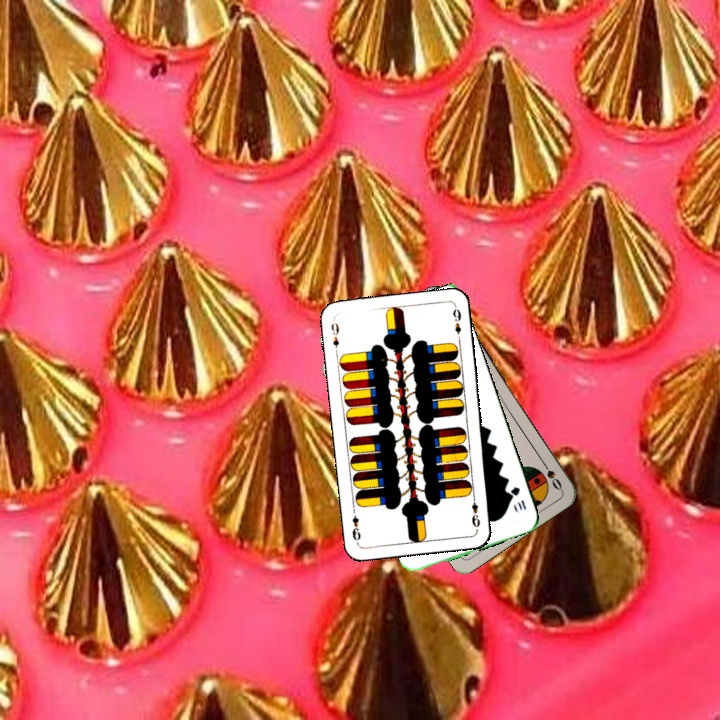E9: (327, 316, 342, 357), (467, 491, 482, 530)
G10: (506, 483, 529, 514)
SO: (537, 456, 565, 493)
